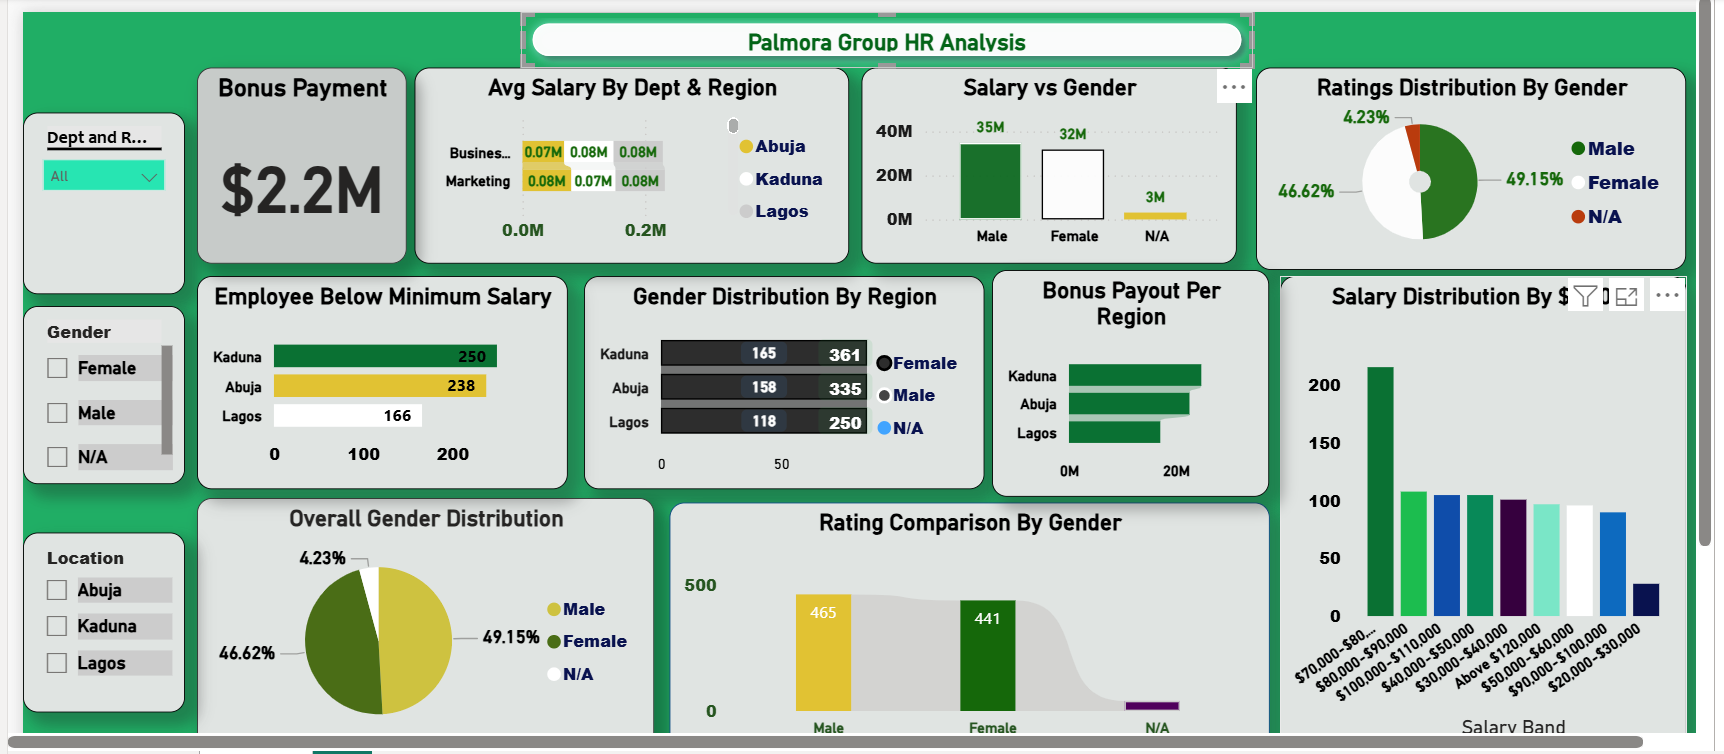

The page's visual inventory and layout, read from the dashboard file:
{"tool":"powerbi","page":{"name":"Page 1","canvas":[1280,720],"ordinal":0},"visuals":[{"type":"barChart","title":"Gender Distribution By Region","fields":{"Category":["MY BI PROJECT.Location","MY BI PROJECT.Gender"],"Series":["MY BI PROJECT.Gender"],"Y":["CountNonNull(MY BI PROJECT.Department)"]},"box":[936.7,65,343.3,146.7],"z":0},{"type":"pieChart","title":"Overall Gender Distribution","fields":{"Y":["MY BI PROJECT.Rating count by gender"],"Category":["MY BI PROJECT.Gender"]},"box":[942.4,216.9,337.3,274.6],"z":1000},{"type":"barChart","title":"Avg Salary By Dept & Region","fields":{"Y":["MY BI PROJECT.Average salary by gender"],"Category":["MY BI PROJECT.Department"],"Series":["MY BI PROJECT.Location"]},"box":[928.8,498.3,350.8,222],"z":2000},{"type":"pieChart","title":"Salary Pay gap","fields":{"Category":["MY BI PROJECT.Gender"],"Y":["Sum(MY BI PROJECT.Salary)"]},"box":[170,58.3,420,188.3],"z":3000},{"type":"slicer","fields":{"Values":["MY BI PROJECT.Gender"]},"box":[0,426.1,136.2,146.4],"z":4000},{"type":"lineStackedColumnComboChart","title":"Salary Distribution By $10,000","fields":{"Category":["MY BI PROJECT.Salary Band"],"Y":["MY BI PROJECT.Gender count"]},"box":[140.7,254.2,259.3,466.1],"z":5000},{"type":"clusteredBarChart","title":"Employee Below Minimum Salary","fields":{"Y":["MY BI PROJECT.Employees below minimum salary"],"Category":["MY BI PROJECT.Location"]},"box":[639,223.7,298.3,169.5],"z":6000},{"type":"slicer","fields":{"Values":["MY BI PROJECT.Location"]},"box":[0,580,136.7,140],"z":7000},{"type":"shape","box":[342.5,0,545,57.5],"z":8000},{"type":"barChart","title":"Bonus Payout Per Region","fields":{"Y":["MY BI PROJECT.Total amount to be paid"],"Category":["MY BI PROJECT.Location"]},"box":[595,65,336.7,151.7],"z":9000},{"type":"card","title":"Bonus Amount","fields":{"Values":["Sum(MY BI PROJECT.Annual Bonus)"]},"box":[0,158.1,162.9,96.8],"z":10000},{"type":"slicer","fields":{"Values":["MY BI PROJECT.Department"]},"box":[0,262.2,136.6,153.7],"z":11000},{"type":"card","title":"Total Employee","fields":{"Values":["MY BI PROJECT.Total Emp"]},"box":[0,58.1,162.9,95.2],"z":12000},{"type":"pivotTable","fields":{"Rows":["MY BI PROJECT.Name"],"Values":["Sum(MY BI PROJECT.Annual Bonus)","Sum(MY BI PROJECT.Total Pay)"]},"box":[640.2,398.8,302.4,320.7],"z":13000},{"type":"lineStackedColumnComboChart","title":"Rating Insight Based On Gender","fields":{"Category":["MY BI PROJECT.Rating"],"Y":["MY BI PROJECT.Gender count"],"Series":["MY BI PROJECT.Gender"]},"box":[406.8,254.2,228.8,466.1],"z":14000}]}

Visuals, with their boxes on the page's 1280x720 design canvas (x1, y1, x2, y2). These are canvas units, not pixel positions in the 1724x754 screenshot, which may show the page scaled, cropped or inside an application window:
"Gender Distribution By Region" barChart: box=[937, 65, 1280, 212]
"Overall Gender Distribution" pieChart: box=[942, 217, 1280, 492]
"Avg Salary By Dept & Region" barChart: box=[929, 498, 1280, 720]
"Salary Pay gap" pieChart: box=[170, 58, 590, 247]
slicer - MY BI PROJECT.Gender: box=[0, 426, 136, 572]
"Salary Distribution By $10,000" lineStackedColumnComboChart: box=[141, 254, 400, 720]
"Employee Below Minimum Salary" clusteredBarChart: box=[639, 224, 937, 393]
slicer - MY BI PROJECT.Location: box=[0, 580, 137, 720]
shape: box=[342, 0, 888, 58]
"Bonus Payout Per Region" barChart: box=[595, 65, 932, 217]
"Bonus Amount" card: box=[0, 158, 163, 255]
slicer - MY BI PROJECT.Department: box=[0, 262, 137, 416]
"Total Employee" card: box=[0, 58, 163, 153]
pivotTable - MY BI PROJECT.Name x Sum(MY BI PROJECT.Annual Bonus): box=[640, 399, 943, 720]
"Rating Insight Based On Gender" lineStackedColumnComboChart: box=[407, 254, 636, 720]
